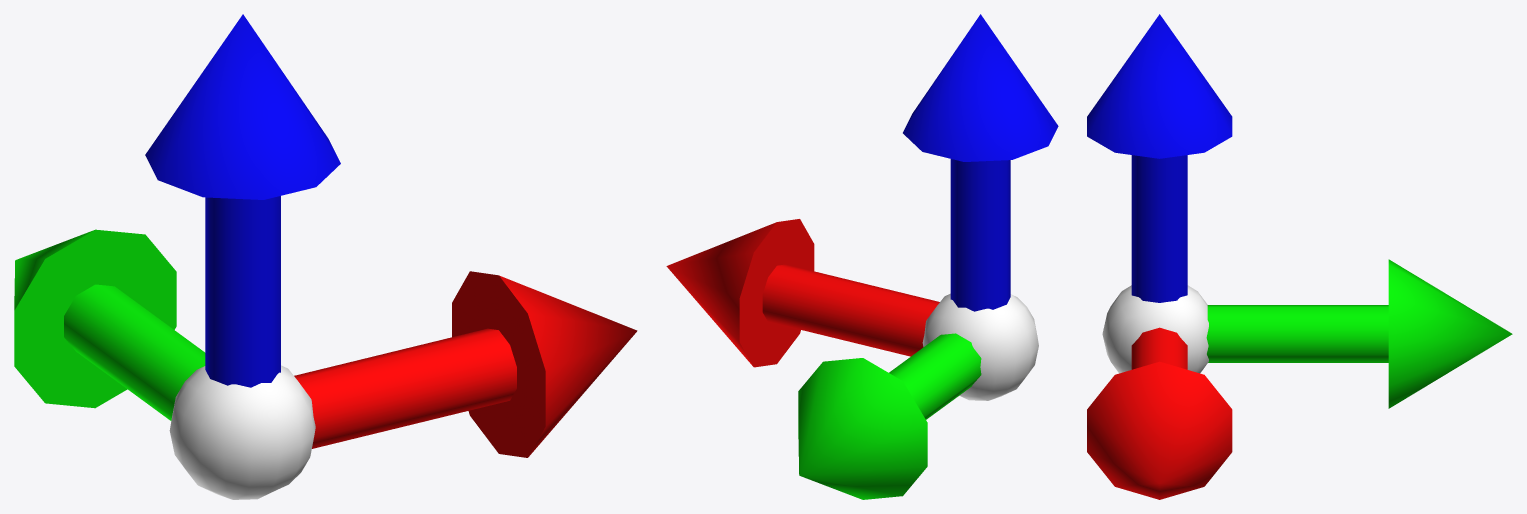
The model's file is Widget.Transform.fbx.
3 renders of one model, left to right at view 1: azimuth 30°, elevation 25°; view 2: azimuth 150°, elevation 25°; view 3: azimuth 270°, elevation 25°, orthographic. The views are drawn at different scales.
Visible parts, largest first — view 1: Cylinder001, Cylinder002, Cylinder003, Box001; view 2: Cylinder001, Cylinder002, Cylinder003, Box001; view 3: Cylinder001, Cylinder003, Cylinder002, Box001.
Boxes of the visible parts, x1=… form: Cylinder001: x1=145, y1=14, x2=340, y2=387; Cylinder002: x1=294, y1=271, x2=637, y2=457; Cylinder003: x1=14, y1=229, x2=205, y2=420; Box001: x1=169, y1=365, x2=315, y2=499; Cylinder001: x1=903, y1=14, x2=1058, y2=311; Cylinder002: x1=666, y1=219, x2=939, y2=367; Cylinder003: x1=798, y1=333, x2=981, y2=499; Box001: x1=922, y1=293, x2=1038, y2=400; Cylinder001: x1=1087, y1=14, x2=1232, y2=302; Cylinder003: x1=1206, y1=259, x2=1512, y2=408; Cylinder002: x1=1087, y1=327, x2=1232, y2=499; Box001: x1=1102, y1=285, x2=1208, y2=373.
Size of the model in its own units: 0.1213 by 0.1213 by 0.1202.
